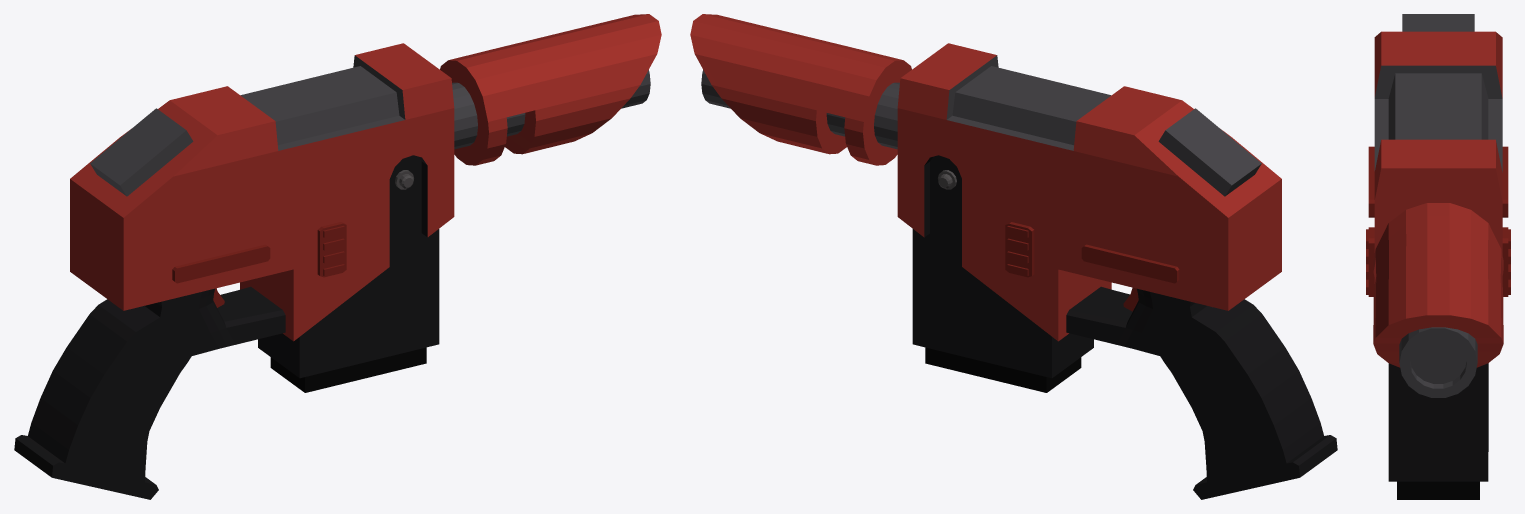
The model's file is Accatran_MG_Variant_Heavy_Laspistol_Red.fbx.
3 views of the same model, side by side, from view 1: azimuth 30°, elevation 25°; view 2: azimuth 150°, elevation 25°; view 3: azimuth 270°, elevation 25° (orthographic). The views are drawn at different scales.
Visible parts, largest first — view 1: Accatran_MG_Variant_Heavy_Laspistol_Red; view 2: Accatran_MG_Variant_Heavy_Laspistol_Red; view 3: Accatran_MG_Variant_Heavy_Laspistol_Red.
Part boxes in pixels (<box>): Accatran_MG_Variant_Heavy_Laspistol_Red: <box>14,14,661,499</box>; Accatran_MG_Variant_Heavy_Laspistol_Red: <box>690,14,1337,499</box>; Accatran_MG_Variant_Heavy_Laspistol_Red: <box>1366,14,1510,499</box>.
Bounding box in the file's own units: 116 × 63.78 × 19.58.
